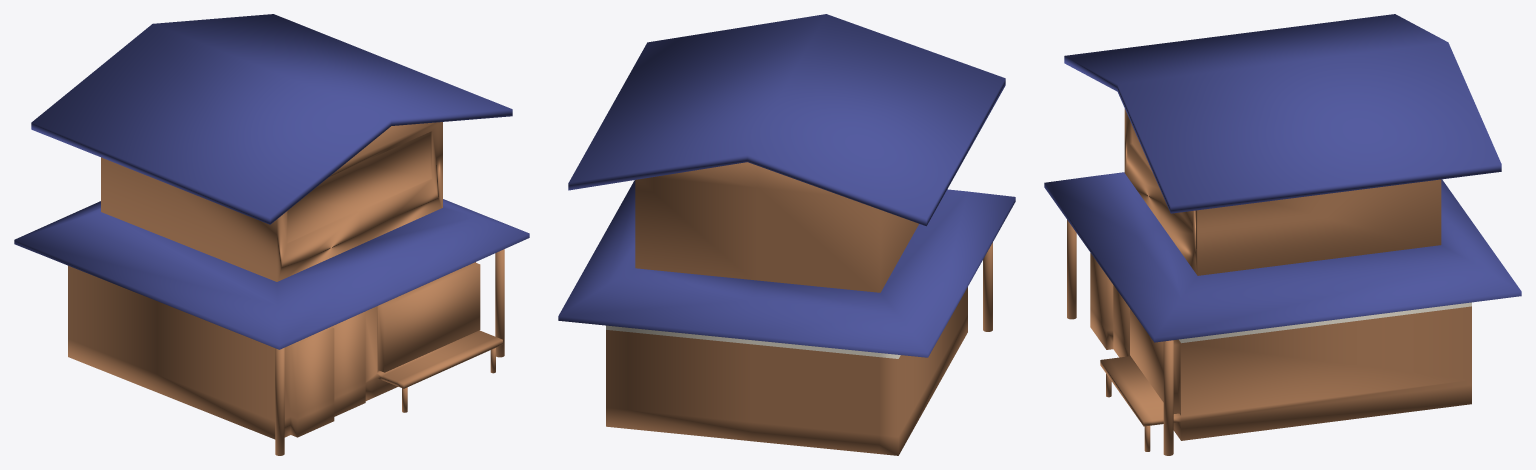
File: 050_古民家006.glb
3 renders of one model, left to right at view 1: azimuth 30°, elevation 25°; view 2: azimuth 150°, elevation 25°; view 3: azimuth 270°, elevation 25°, orthographic. The views are drawn at different scales.
Visible parts, largest first — view 1: 立方体016_1, 立方体016_3, 立方体016_4, 立方体016; view 2: 立方体016_1, 立方体016_3, 立方体016_2, 立方体016; view 3: 立方体016_1, 立方体016_3, 立方体016_4, 立方体016, 立方体016_2.
Part boxes in pixels (bbox=[...]): 立方体016_1: bbox=[14, 14, 529, 349]; 立方体016_3: bbox=[68, 122, 502, 439]; 立方体016_4: bbox=[287, 132, 480, 437]; 立方体016: bbox=[275, 249, 504, 455]; 立方体016_1: bbox=[558, 14, 1015, 357]; 立方体016_3: bbox=[606, 162, 967, 455]; 立方体016_2: bbox=[606, 325, 900, 358]; 立方体016: bbox=[983, 242, 992, 331]; 立方体016_1: bbox=[1044, 14, 1521, 342]; 立方体016_3: bbox=[1100, 108, 1471, 440]; 立方体016_4: bbox=[1090, 126, 1192, 413]; 立方体016: bbox=[1067, 220, 1173, 455]; 立方体016_2: bbox=[1179, 302, 1471, 343].
Size of the model in its own units: 3.56 by 2.53 by 3.56.
